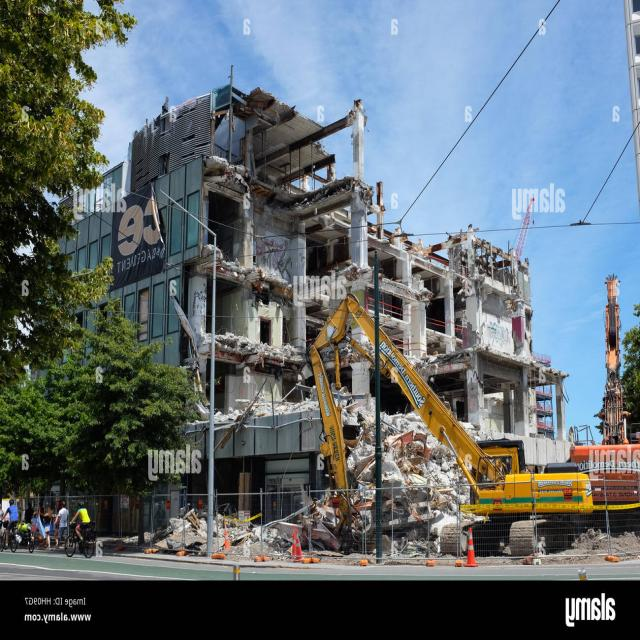Destroyed_building: (0, 2, 638, 579)
